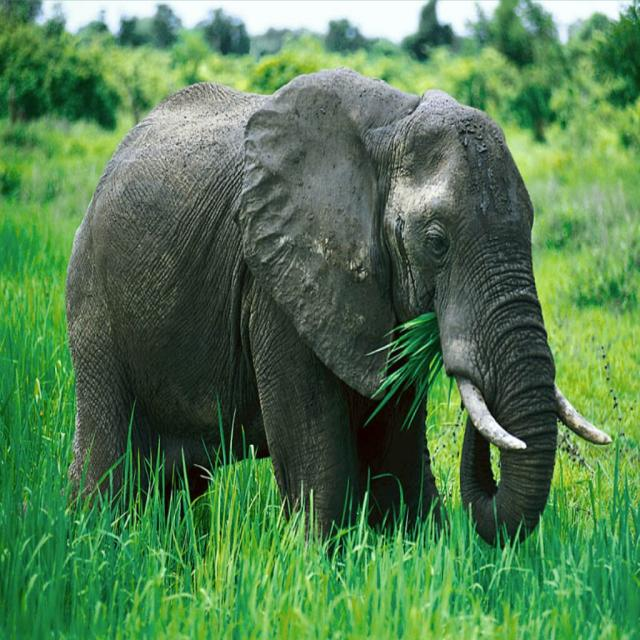Herbivorous: (65, 69, 610, 549)
